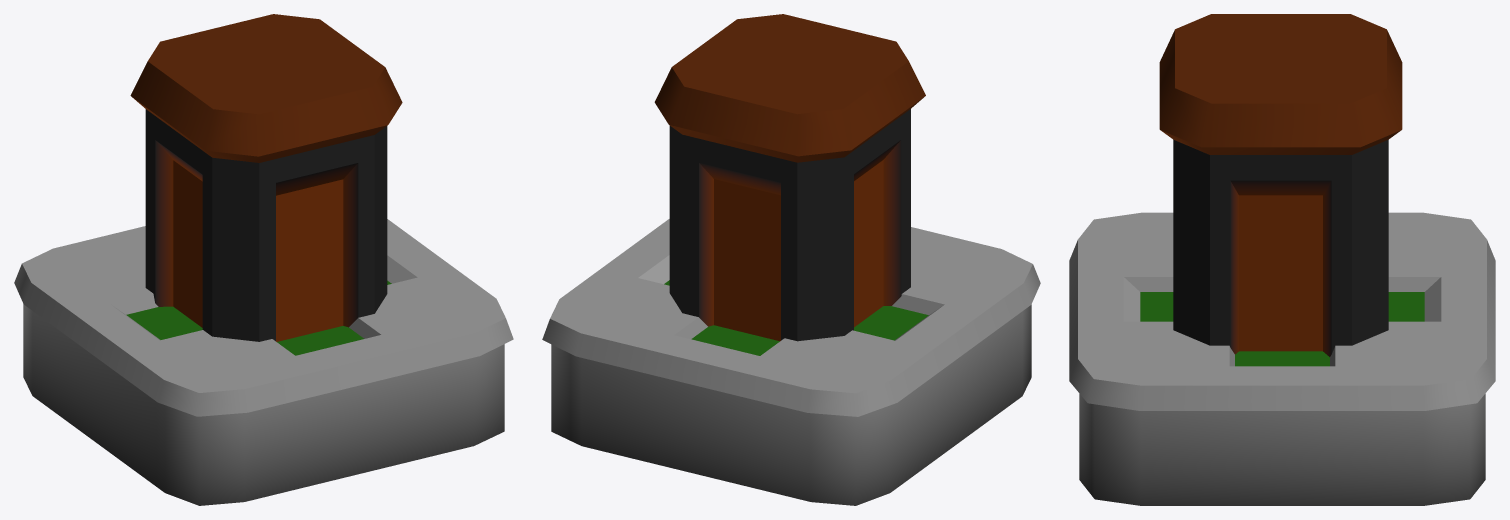
The model's file is LootMeshes.FBX.
The picture shows the model from 3 angles, left to right: view 1: azimuth 30°, elevation 25°; view 2: azimuth 150°, elevation 25°; view 3: azimuth 270°, elevation 25°; orthographic projection. The views are drawn at different scales.
Visible parts, largest first — view 1: MedKitMesh, AmmoMesh; view 2: MedKitMesh, AmmoMesh; view 3: MedKitMesh, AmmoMesh.
Part boxes in pixels (x1=…): MedKitMesh: x1=14, y1=219, x2=513, y2=505; AmmoMesh: x1=130, y1=14, x2=402, y2=341; MedKitMesh: x1=542, y1=219, x2=1040, y2=505; AmmoMesh: x1=654, y1=14, x2=925, y2=341; MedKitMesh: x1=1069, y1=212, x2=1495, y2=505; AmmoMesh: x1=1159, y1=14, x2=1402, y2=356.
Size of the model in its own units: 8.81 by 8.81 by 8.26.
